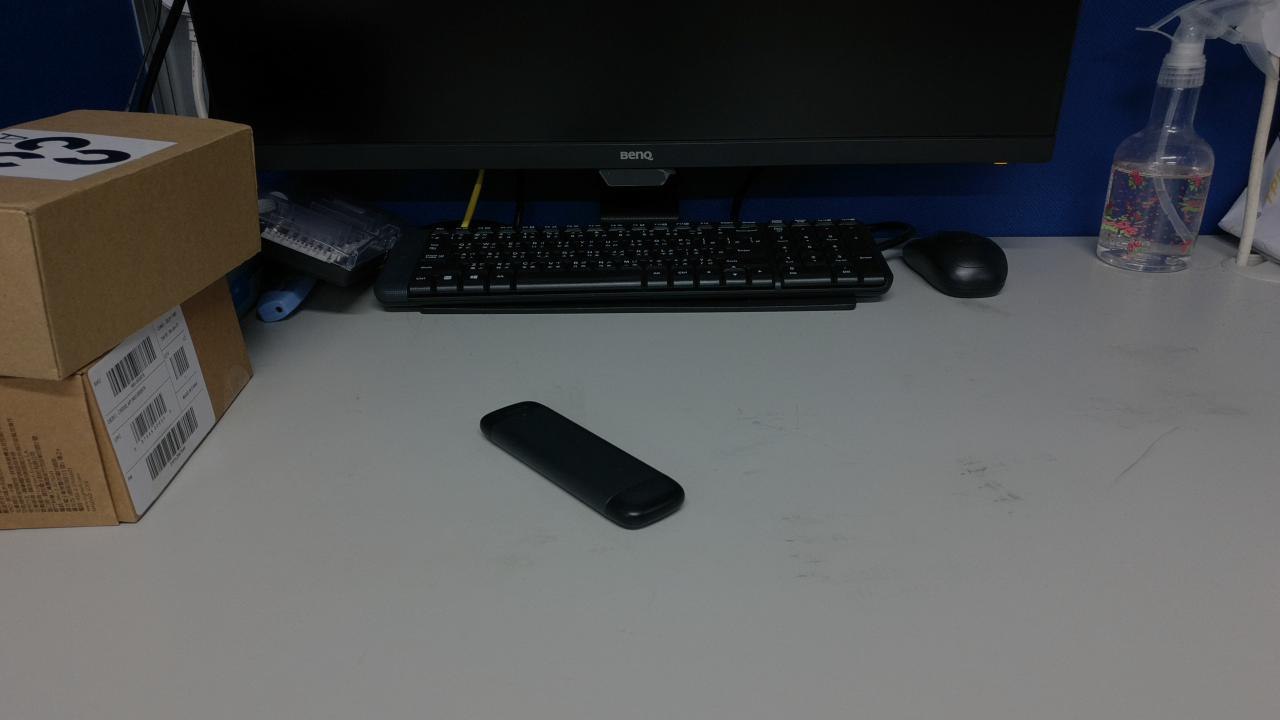long: (524, 340, 574, 452)
